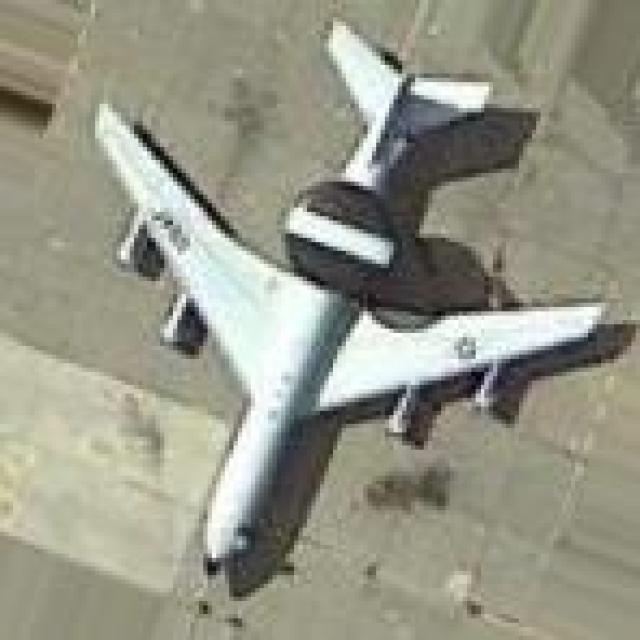E-3_TopDown: (82, 13, 636, 597)
